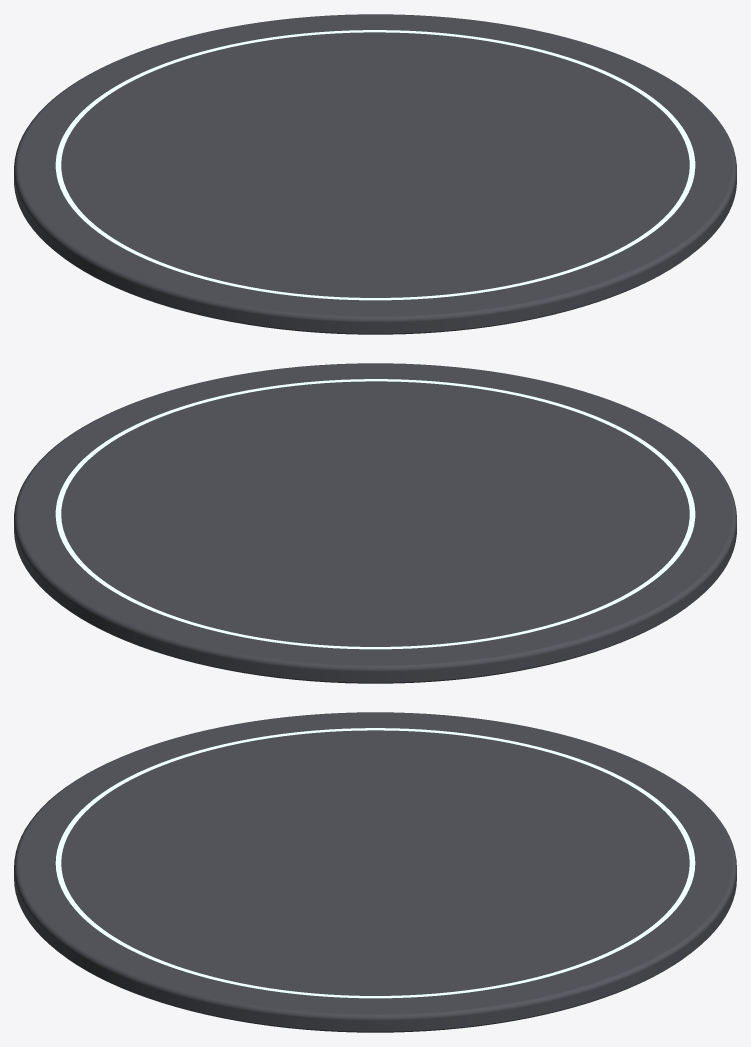
The model's file is stage.glb.
The picture shows the model from 3 angles, top to bottom: view 1: azimuth 30°, elevation 25°; view 2: azimuth 150°, elevation 25°; view 3: azimuth 270°, elevation 25°; orthographic projection.
Visible parts, largest first — view 1: Stage, StageRing; view 2: Stage, StageRing; view 3: Stage, StageRing.
Part boxes in pixels (x1,y1,x2,y2): Stage: (14, 14, 736, 334); StageRing: (55, 30, 695, 300); Stage: (14, 363, 736, 683); StageRing: (55, 379, 695, 649); Stage: (14, 712, 736, 1032); StageRing: (55, 728, 695, 998).
Size of the model in its own units: 5.2 by 0.142 by 5.2.
